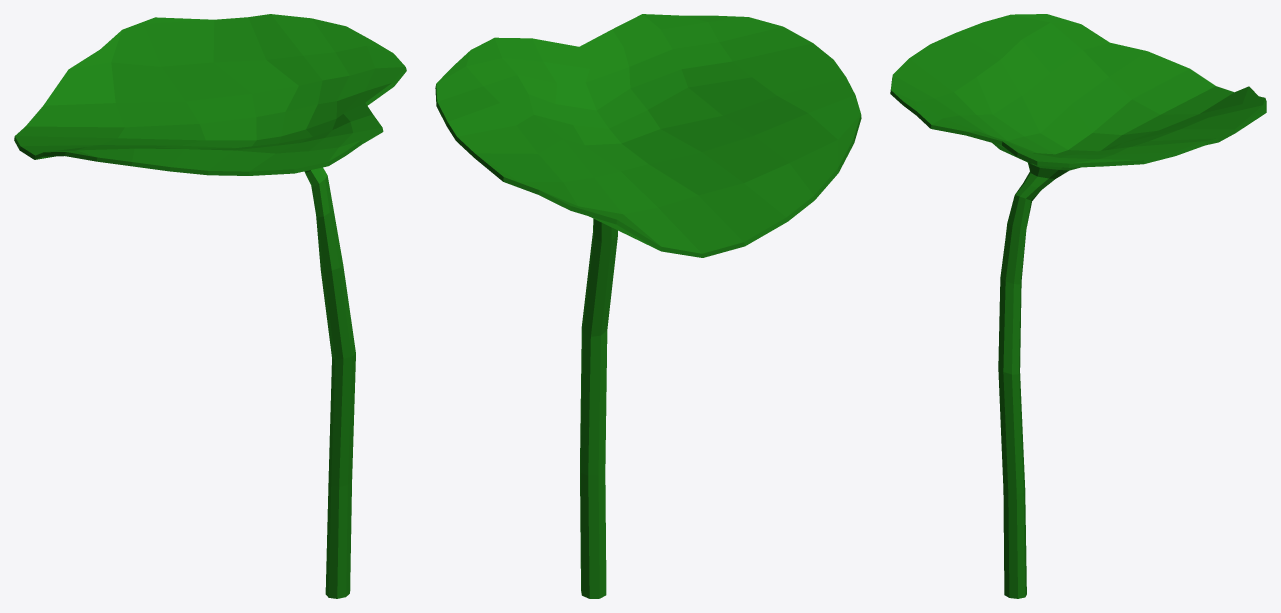
File: HOJALOTO5.fbx
The picture shows the model from 3 angles, left to right: view 1: azimuth 30°, elevation 25°; view 2: azimuth 150°, elevation 25°; view 3: azimuth 270°, elevation 25°; orthographic projection. The views are drawn at different scales.
Parts seen in each view (by area): view 1: Plane.006; view 2: Plane.006; view 3: Plane.006.
Boxes of the visible parts, left/top/right/bottom form: Plane.006: left=14, top=14, right=406, bottom=598; Plane.006: left=435, top=14, right=861, bottom=598; Plane.006: left=890, top=14, right=1266, bottom=598.
Size of the model in its own units: 166 by 230 by 167.
